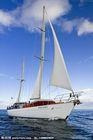fanchuan: (6, 5, 80, 121)
